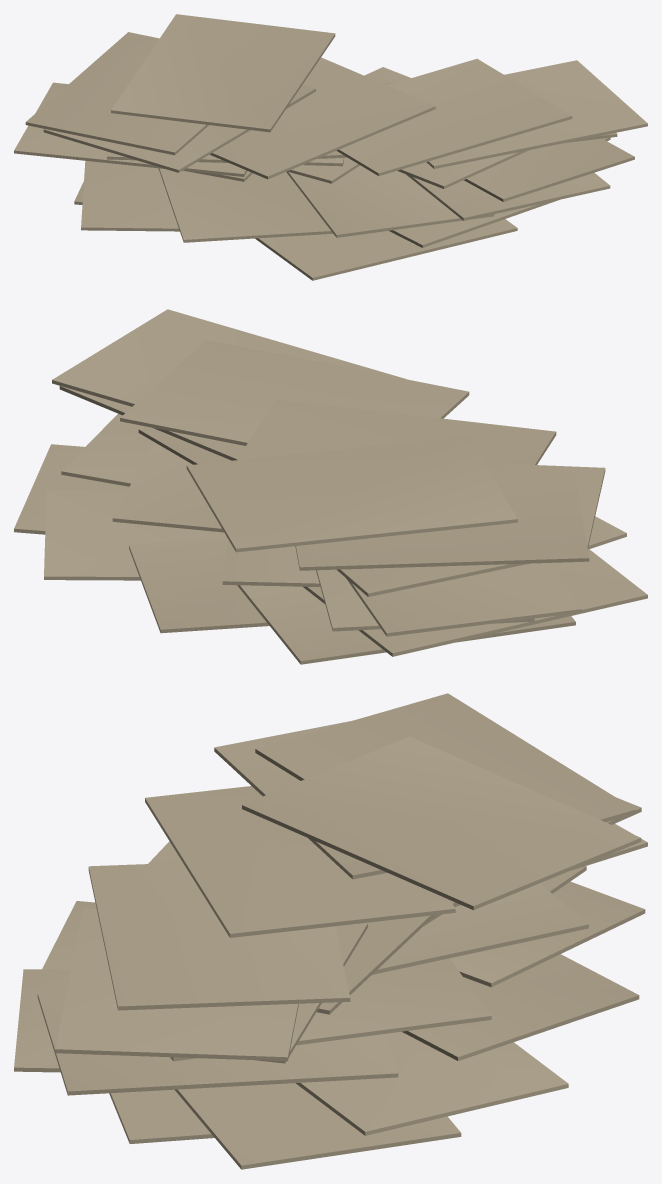
Rendered from prop-paper-wave-v01.glb.
The picture shows the model from 3 angles, top to bottom: view 1: azimuth 30°, elevation 25°; view 2: azimuth 150°, elevation 25°; view 3: azimuth 270°, elevation 25°; orthographic projection. The views are drawn at different scales.
Parts seen in each view (by area): view 1: paper-wave; view 2: paper-wave; view 3: paper-wave.
Boxes of the visible parts, bbox=[...] form: paper-wave: bbox=[14, 14, 647, 280]; paper-wave: bbox=[14, 309, 647, 664]; paper-wave: bbox=[14, 693, 647, 1169].
Bounding box in the file's own units: 0.7532 × 0.142 × 0.5709.
